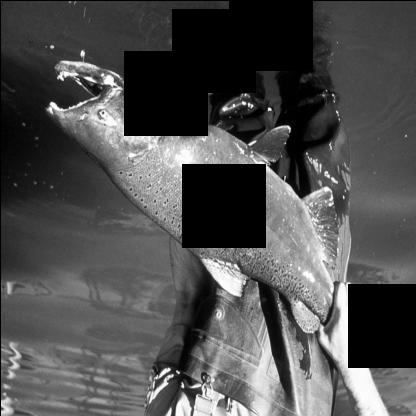fish: (43, 58, 388, 359)
